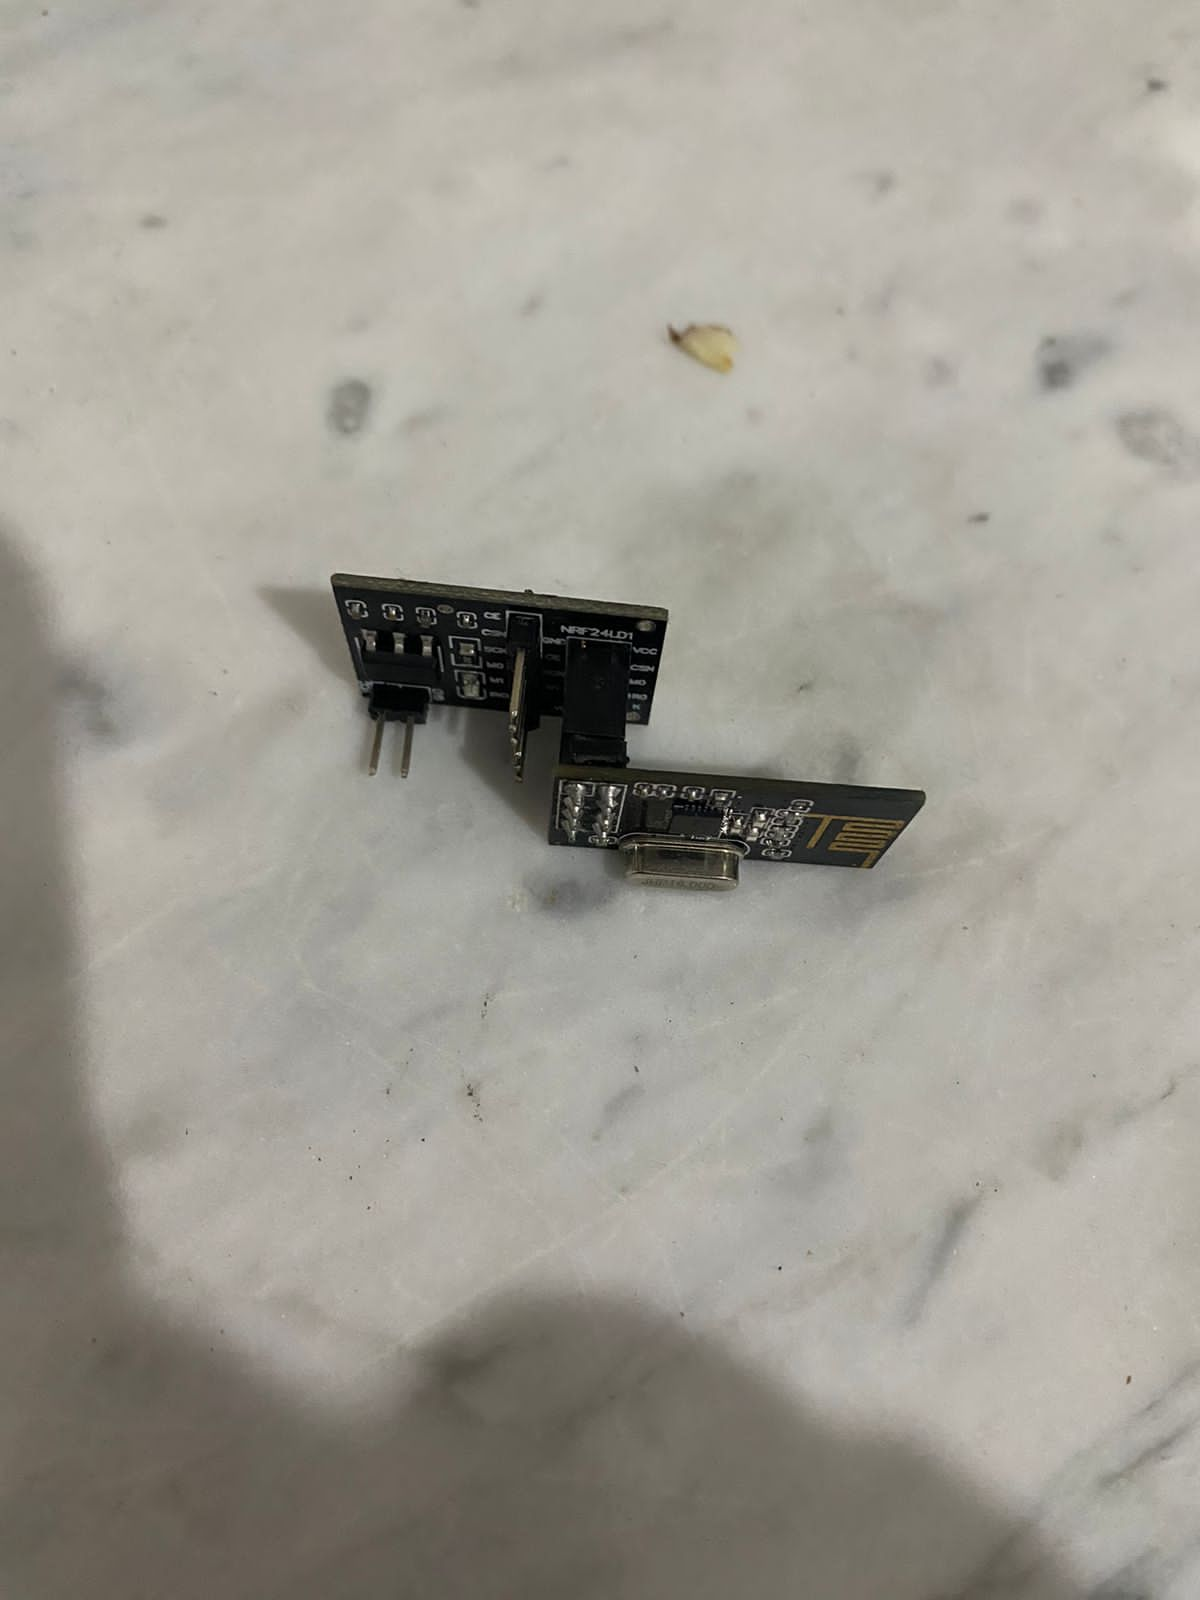RF-module: (310, 553, 937, 900)
